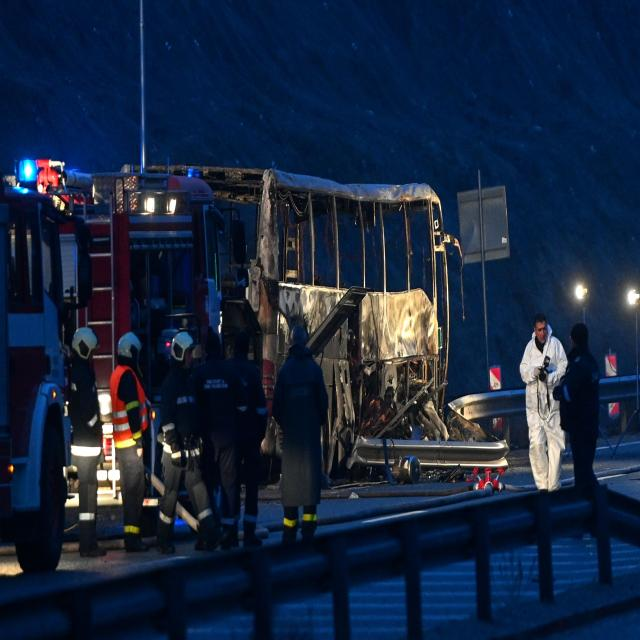Accident: (3, 152, 511, 578)
